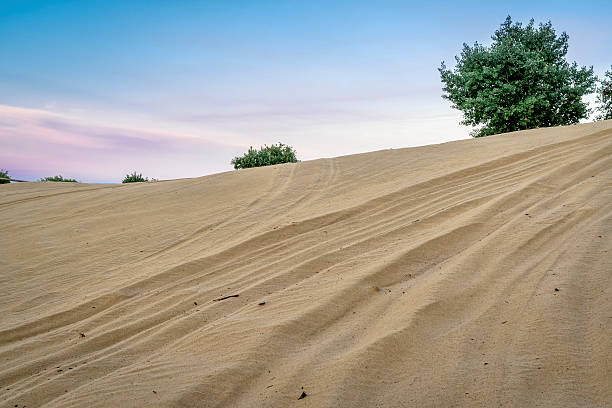vehicle_track: (24, 192, 478, 400), (21, 154, 525, 340), (237, 178, 552, 407), (357, 195, 602, 402), (113, 164, 297, 266), (244, 157, 342, 236)
